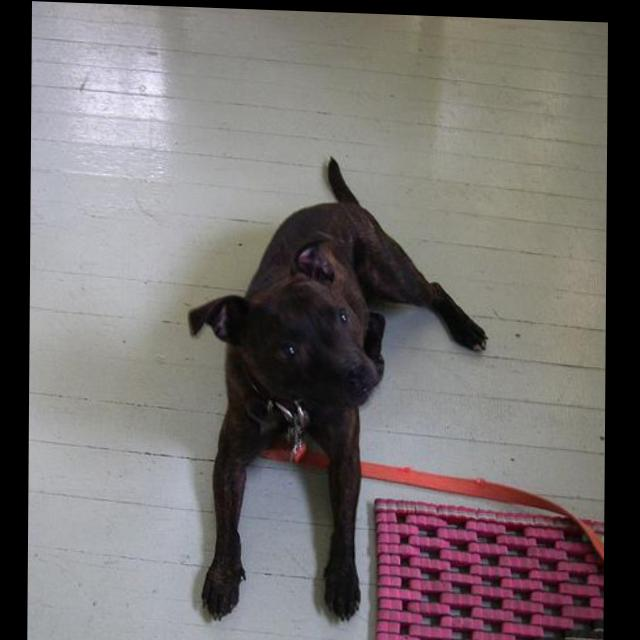staffford: (187, 149, 492, 629)
